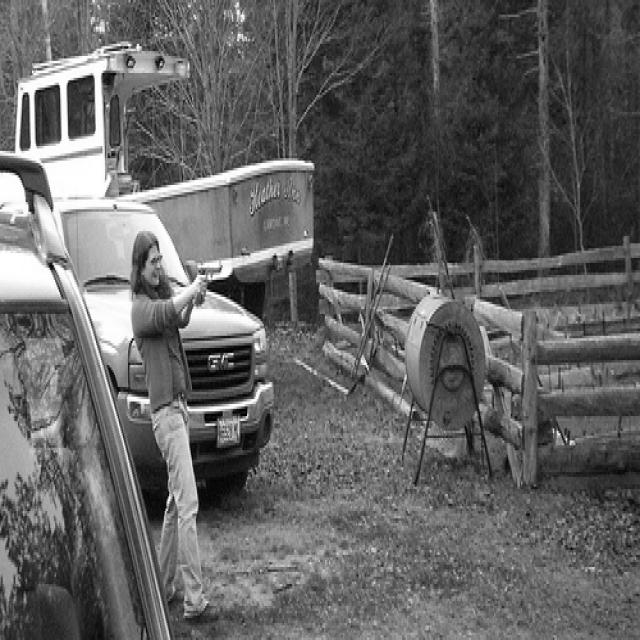gun: (197, 263, 221, 302)
